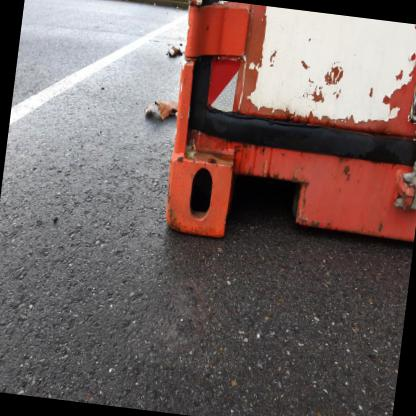CornerCasting: (157, 150, 240, 245)
